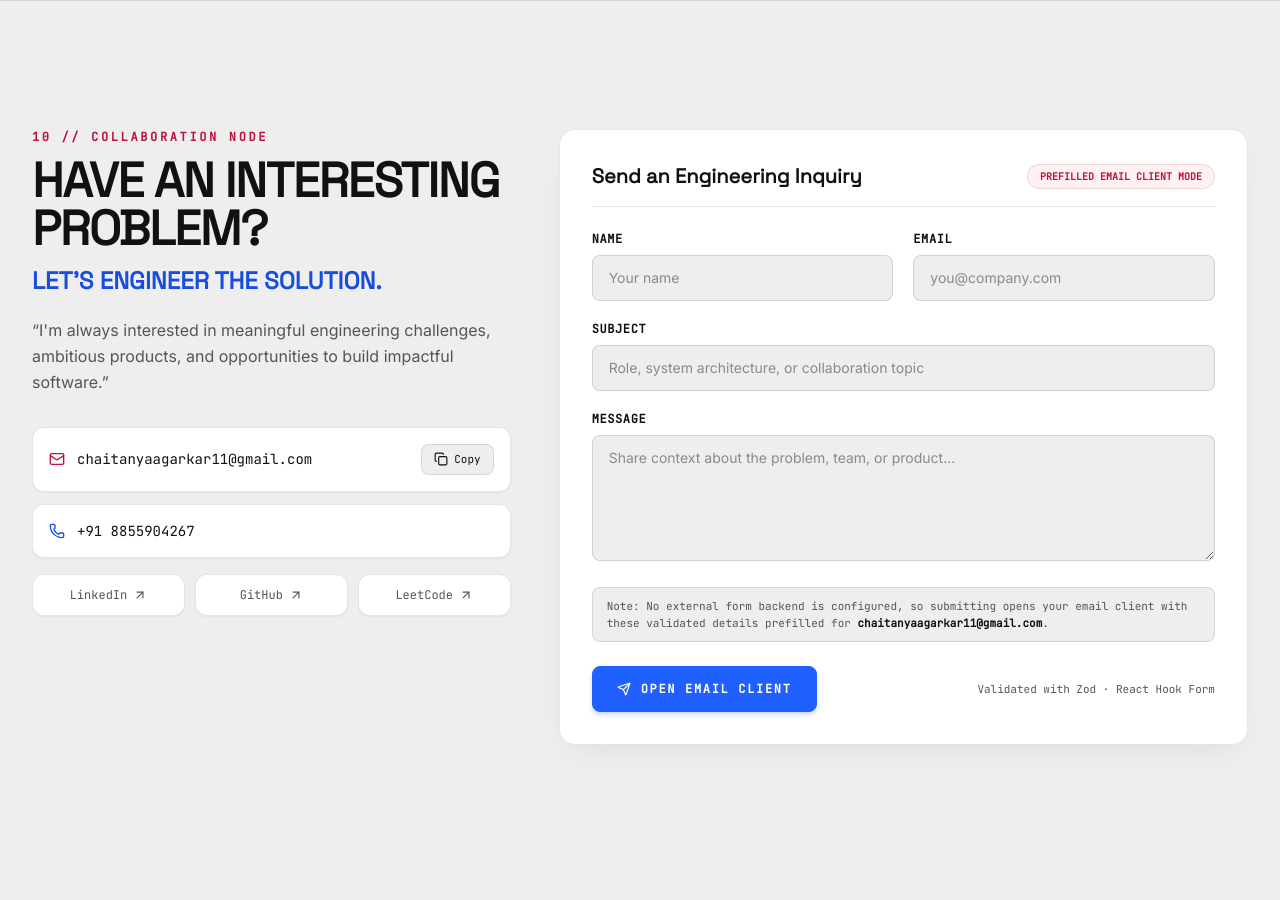
Portfolio interactive components › validates Contact form inputs before submission
The width and height of the screenshot is (1280, 900).
Click the button "Open Email Client" at (704, 689), box [592,666,817,712]
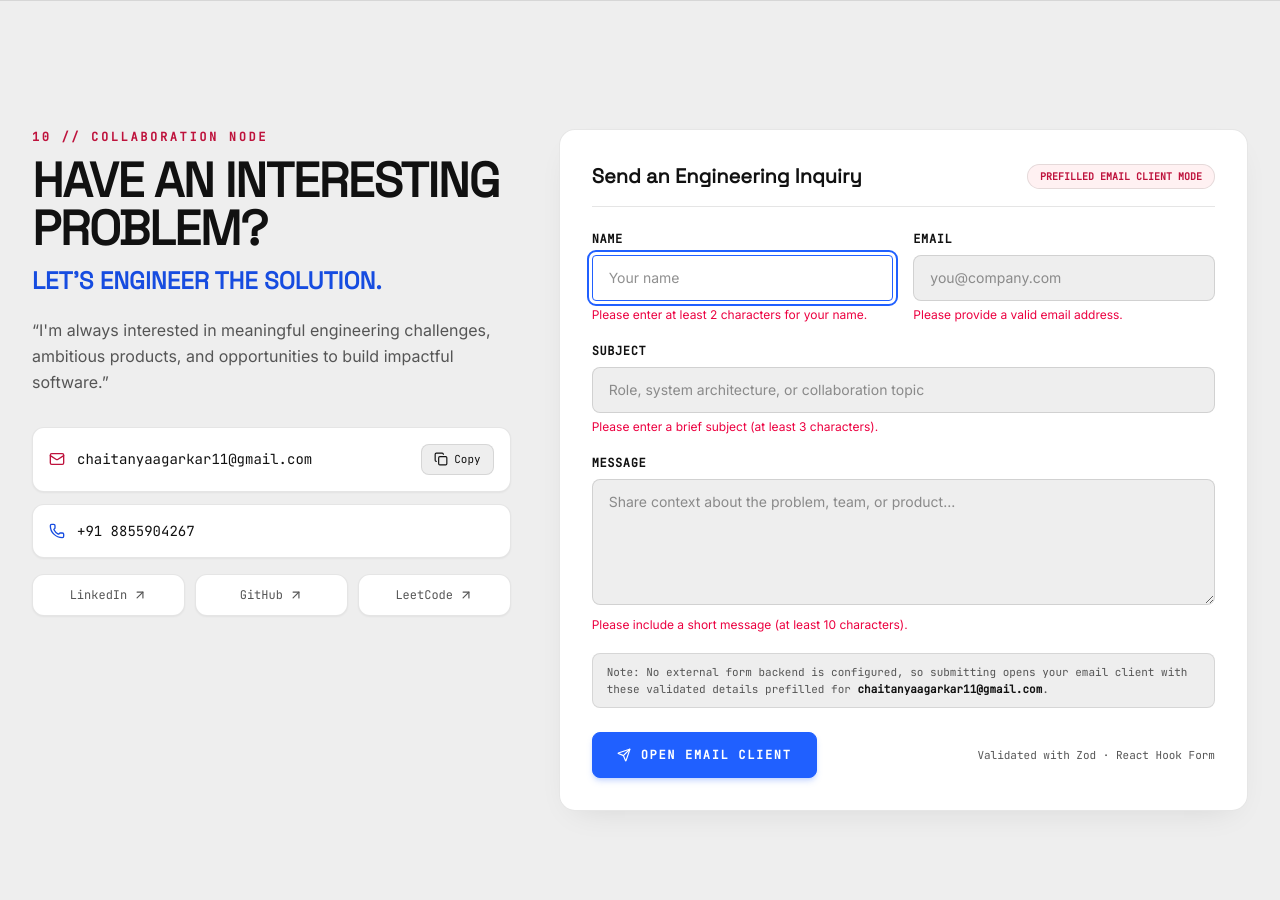
Result: the text "Please enter at least 2 characters for your name." is shown at [592,307,893,323]
Result: the text "Please provide a valid email address." is shown at [913,307,1123,322]
